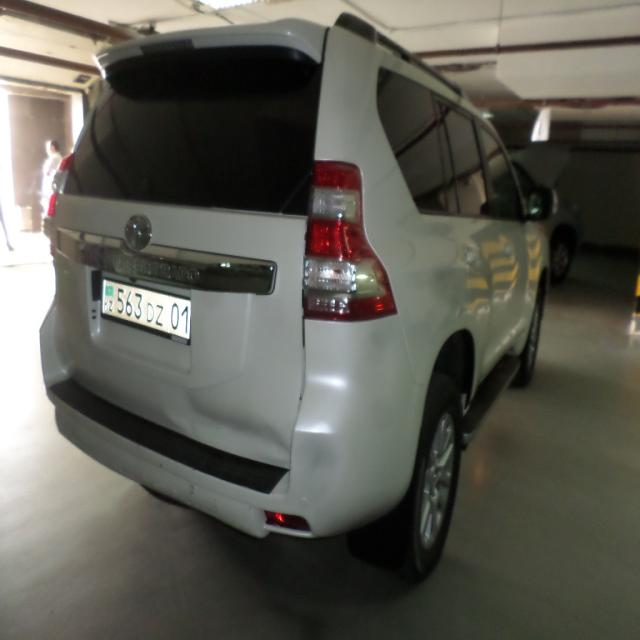Cabossage: (168, 386, 292, 470), (356, 318, 404, 419), (296, 431, 340, 518)
Rayure: (188, 478, 199, 496)
